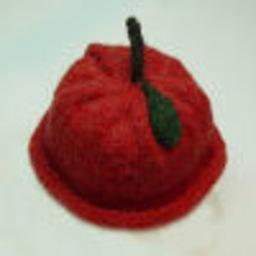apple: (27, 22, 226, 222)
